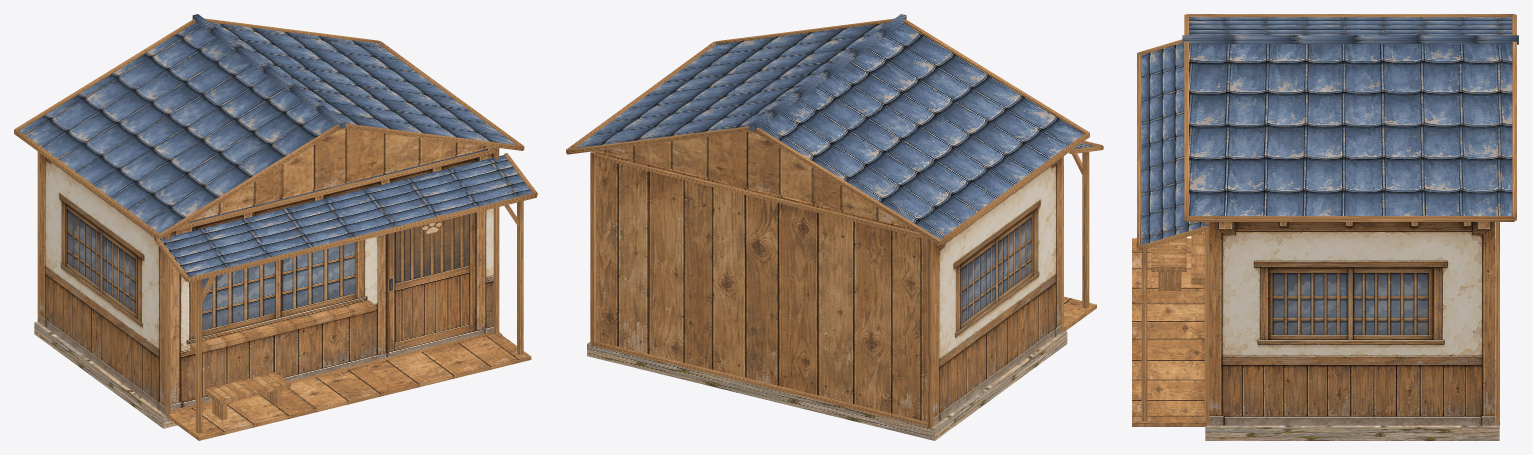
The model's file is nyanisyarud-harbor-home-indigo.glb.
3 renders of one model, left to right at view 1: azimuth 30°, elevation 25°; view 2: azimuth 150°, elevation 25°; view 3: azimuth 270°, elevation 25°, orthographic. The views are drawn at different scales.
Visible parts, largest first — view 1: Indigo_Fisher_Home; view 2: Indigo_Fisher_Home; view 3: Indigo_Fisher_Home.
Boxes of the visible parts, x1=… form: Indigo_Fisher_Home: x1=14, y1=14, x2=537, y2=440; Indigo_Fisher_Home: x1=566, y1=14, x2=1103, y2=440; Indigo_Fisher_Home: x1=1132, y1=14, x2=1518, y2=440.
Size of the model in its own units: 2.74 by 1.94 by 2.19.
1 material, 1 textured.
